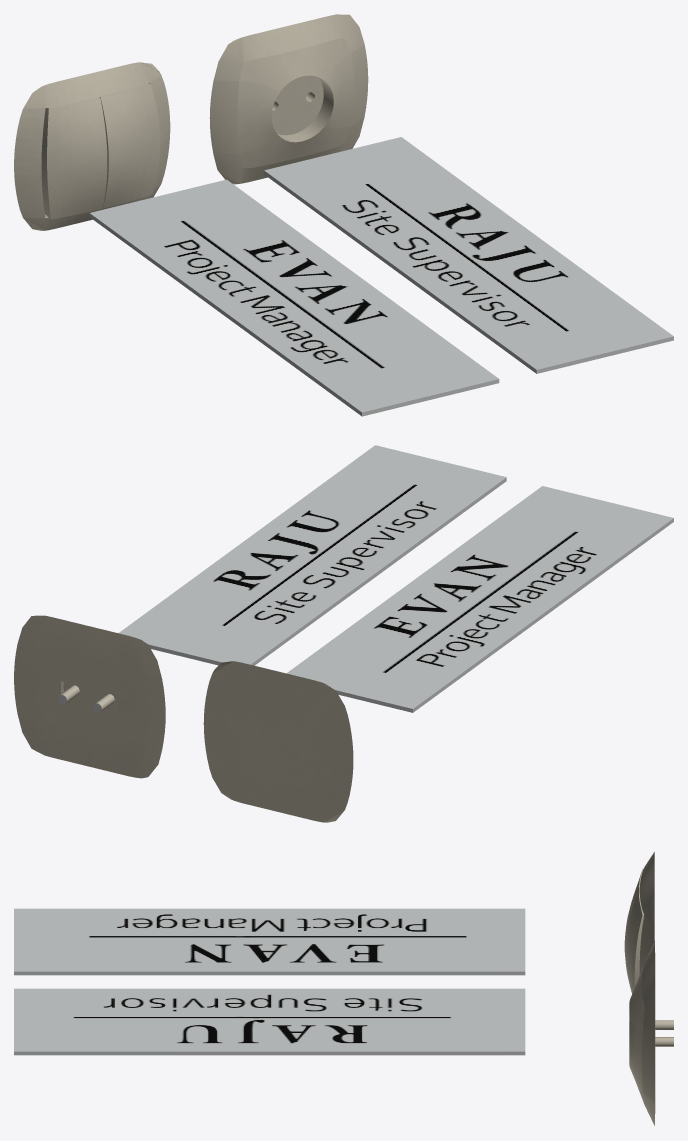
The model's file is light switch.fbx.
The picture shows the model from 3 angles, top to bottom: view 1: azimuth 30°, elevation 25°; view 2: azimuth 150°, elevation 25°; view 3: azimuth 270°, elevation 25°; orthographic projection. The views are drawn at different scales.
Visible parts, largest first — view 1: Evan_Nameplate, Raju_Nameplate, light_switch_02, light_switch_01; view 2: Evan_Nameplate, Raju_Nameplate, light_switch_02, light_switch_01; view 3: Raju_Nameplate, Evan_Nameplate, light_switch_02, light_switch_01.
Boxes of the visible parts, left/top/right/bottom form: Evan_Nameplate: left=89, top=179, right=499, bottom=416; Raju_Nameplate: left=264, top=137, right=673, bottom=373; light_switch_02: left=209, top=14, right=368, bottom=184; light_switch_01: left=14, top=62, right=170, bottom=230; Evan_Nameplate: left=286, top=486, right=673, bottom=712; Raju_Nameplate: left=118, top=445, right=506, bottom=665; light_switch_02: left=14, top=615, right=165, bottom=778; light_switch_01: left=203, top=661, right=353, bottom=822; Raju_Nameplate: left=14, top=988, right=525, bottom=1055; Evan_Nameplate: left=14, top=908, right=525, bottom=975; light_switch_02: left=629, top=941, right=673, bottom=1125; light_switch_01: left=624, top=852, right=654, bottom=993.
Bounding box in the file's own units: 28.16 × 11.2 × 48.41.
